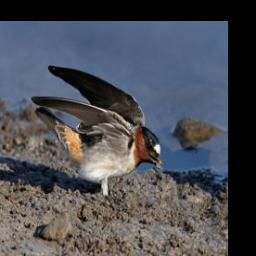Swallow: (31, 64, 162, 211)
